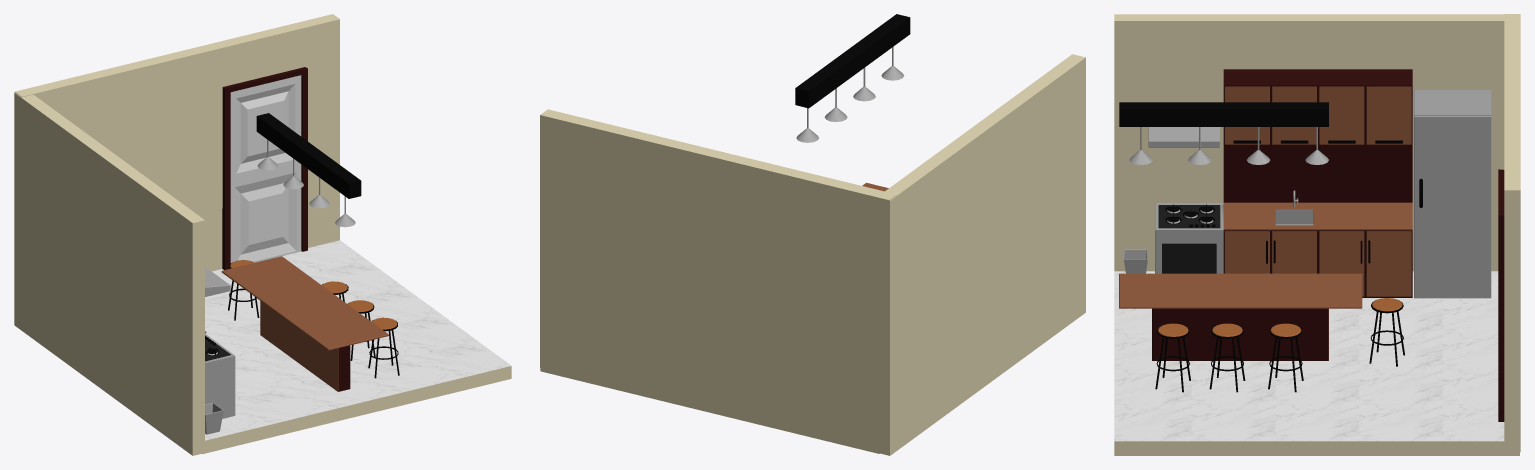
Rendered from cozinha_test.fbx.
3 views of the same model, side by side, from view 1: azimuth 30°, elevation 25°; view 2: azimuth 150°, elevation 25°; view 3: azimuth 270°, elevation 25° (orthographic). The views are drawn at different scales.
Visible parts, largest first — view 1: pCube5, pCube12, pCube9, pCube11, pCube6, pTorus4, pCube13; view 2: pCube5, pCube11; view 3: pCube5, pCube6, pCube9, pCube8, pCube11, pCube12, pCube10, pTorus2, pTorus5, pTorus3, pTorus4, pCube13.
Boxes of the visible parts, x1=… form: pCube5: x1=14, y1=14, x2=511, y2=455; pCube12: x1=222, y1=67, x2=307, y2=270; pCube9: x1=221, y1=256, x2=388, y2=391; pCube11: x1=256, y1=113, x2=361, y2=198; pCube6: x1=205, y1=331, x2=235, y2=418; pTorus4: x1=368, y1=317, x2=399, y2=378; pCube13: x1=205, y1=403, x2=223, y2=434; pCube5: x1=540, y1=54, x2=1085, y2=455; pCube11: x1=795, y1=14, x2=910, y2=108; pCube5: x1=1114, y1=14, x2=1520, y2=455; pCube6: x1=1155, y1=69, x2=1412, y2=297; pCube9: x1=1119, y1=273, x2=1362, y2=360; pCube8: x1=1414, y1=90, x2=1491, y2=298; pCube11: x1=1119, y1=102, x2=1328, y2=126; pCube12: x1=1498, y1=169, x2=1504, y2=421; pCube10: x1=1148, y1=127, x2=1219, y2=147; pTorus2: x1=1268, y1=323, x2=1303, y2=392; pTorus5: x1=1369, y1=298, x2=1404, y2=366; pTorus3: x1=1209, y1=323, x2=1245, y2=392; pTorus4: x1=1155, y1=323, x2=1190, y2=392; pCube13: x1=1124, y1=249, x2=1147, y2=273.
Size of the model in its own units: 25.81 by 18.08 by 25.05.
12 materials, 1 textured.
